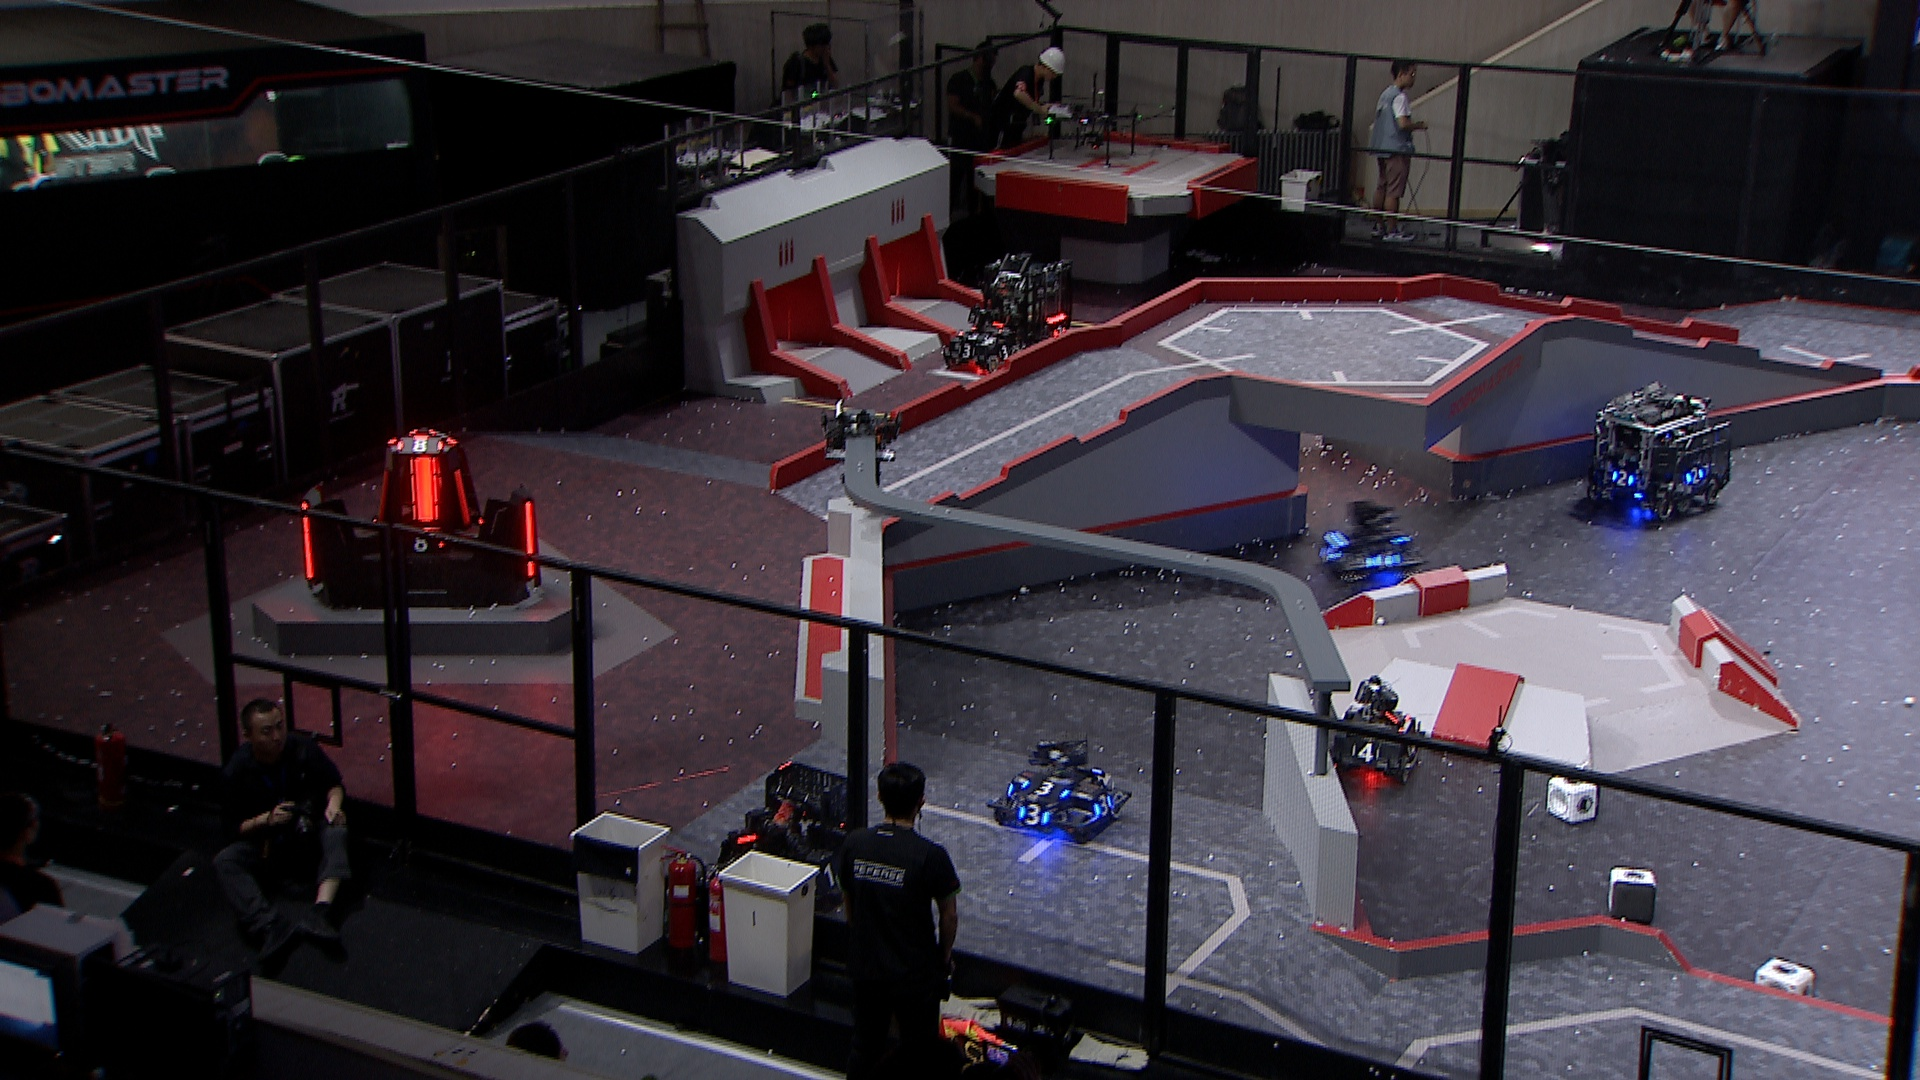armor: (409, 452, 440, 524), (520, 496, 538, 579), (448, 465, 475, 522), (372, 465, 392, 520), (1021, 777, 1069, 798), (301, 513, 315, 582), (394, 433, 444, 452), (407, 529, 446, 553), (816, 858, 843, 891), (1015, 803, 1050, 828), (1348, 741, 1385, 764), (1362, 547, 1400, 568), (1607, 467, 1636, 489), (951, 339, 978, 361), (1092, 790, 1112, 818), (1317, 541, 1340, 564), (1683, 465, 1706, 485), (959, 328, 992, 342), (1387, 527, 1410, 545), (1048, 322, 1069, 338), (1403, 738, 1419, 760), (997, 342, 1013, 360)
base: (295, 427, 543, 615)
car: (711, 760, 862, 916), (1582, 382, 1735, 522), (986, 735, 1135, 845), (975, 245, 1077, 357), (1327, 676, 1428, 785), (1313, 498, 1429, 585), (938, 305, 1025, 377)
watcher: (822, 396, 905, 495)
